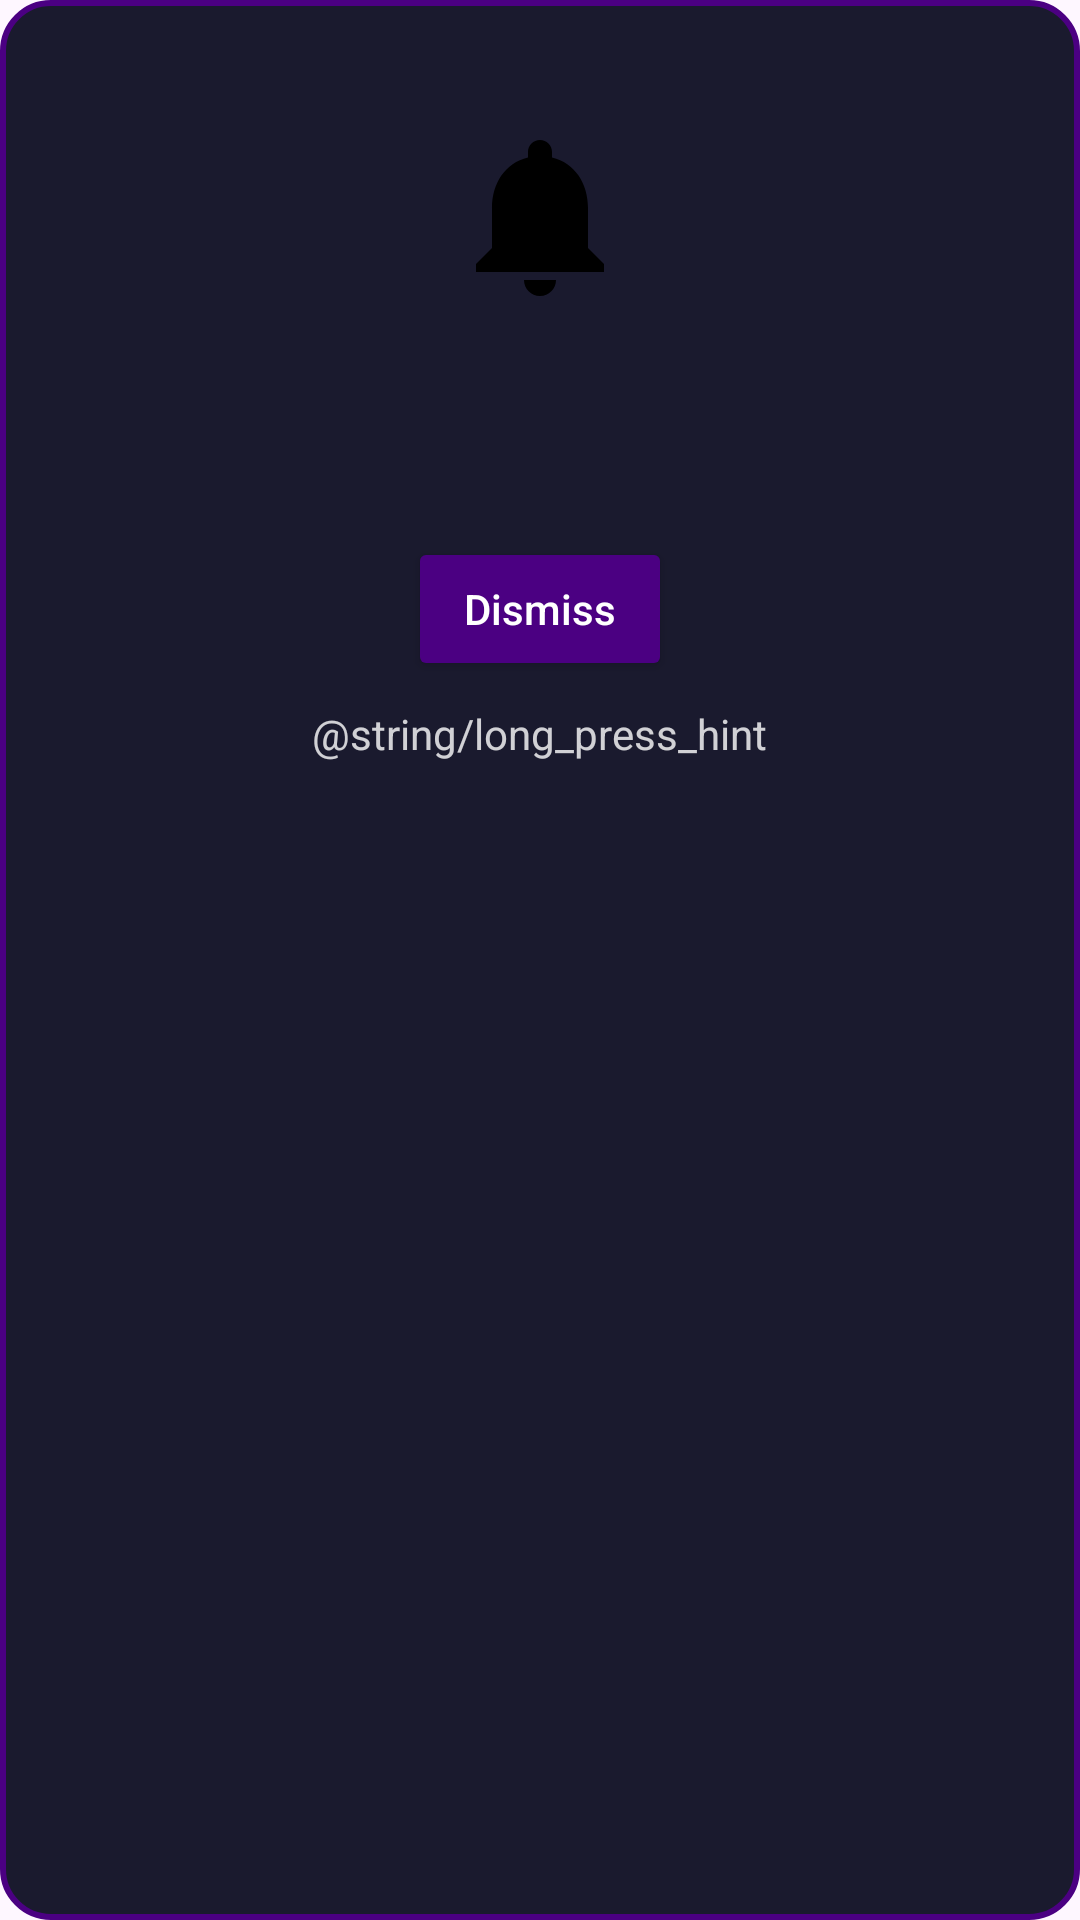

Named icons in this screenshot (1080w x 1920h) and their centers, [x,y]:
alarm: [540,218]
